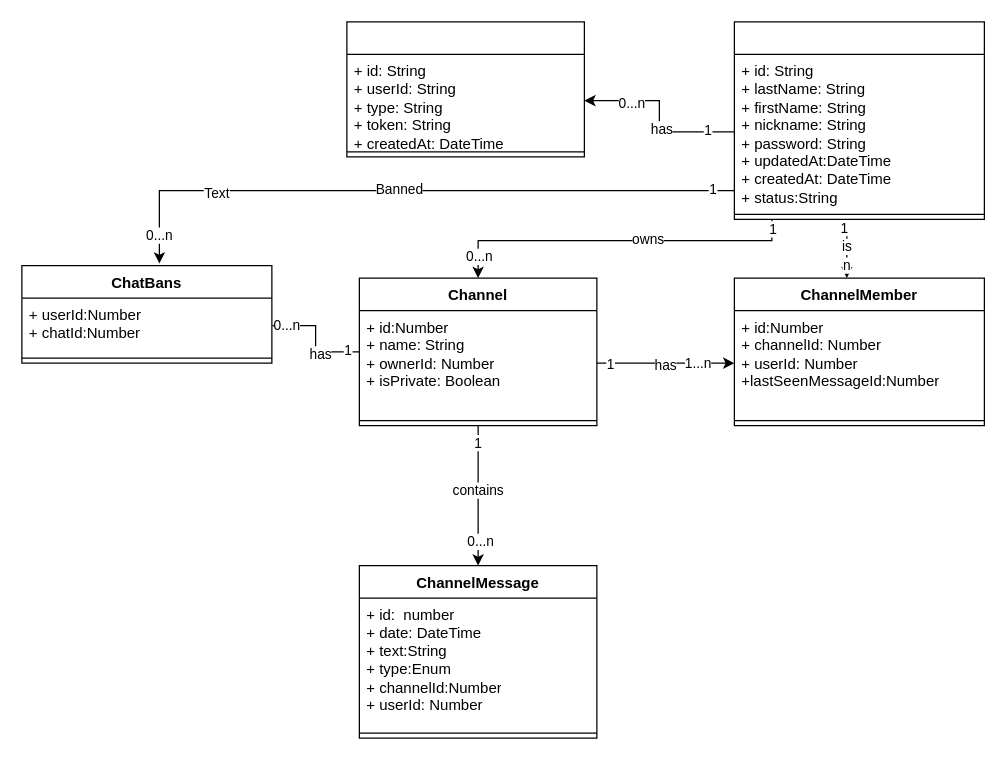
Some shapes in this 1006 by 760 pixel diagram are drawn without their labels. Each missing label, with the box of its shape:
ApiToken: (346, 21, 584, 157)
User: (733, 21, 984, 219)
